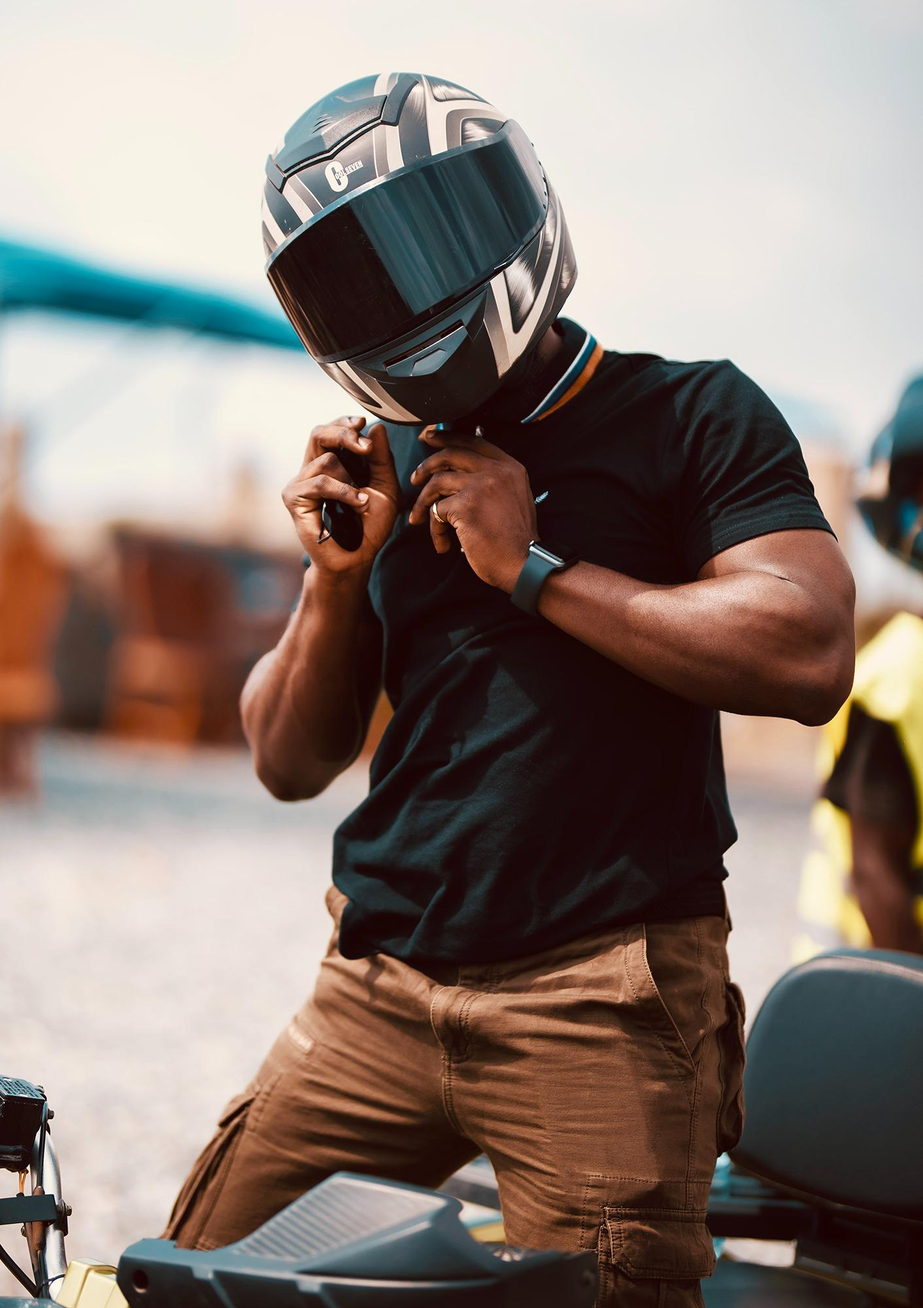helmet: (258, 69, 580, 428)
